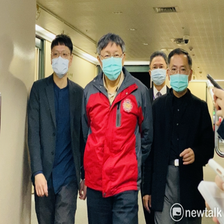mask: (96, 42, 127, 82), (169, 56, 193, 93), (50, 45, 74, 80), (149, 58, 169, 87)
